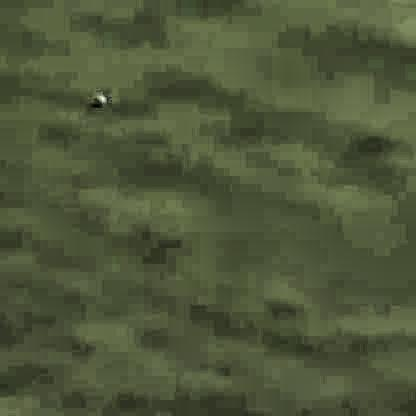golfball: (93, 89, 104, 105)
